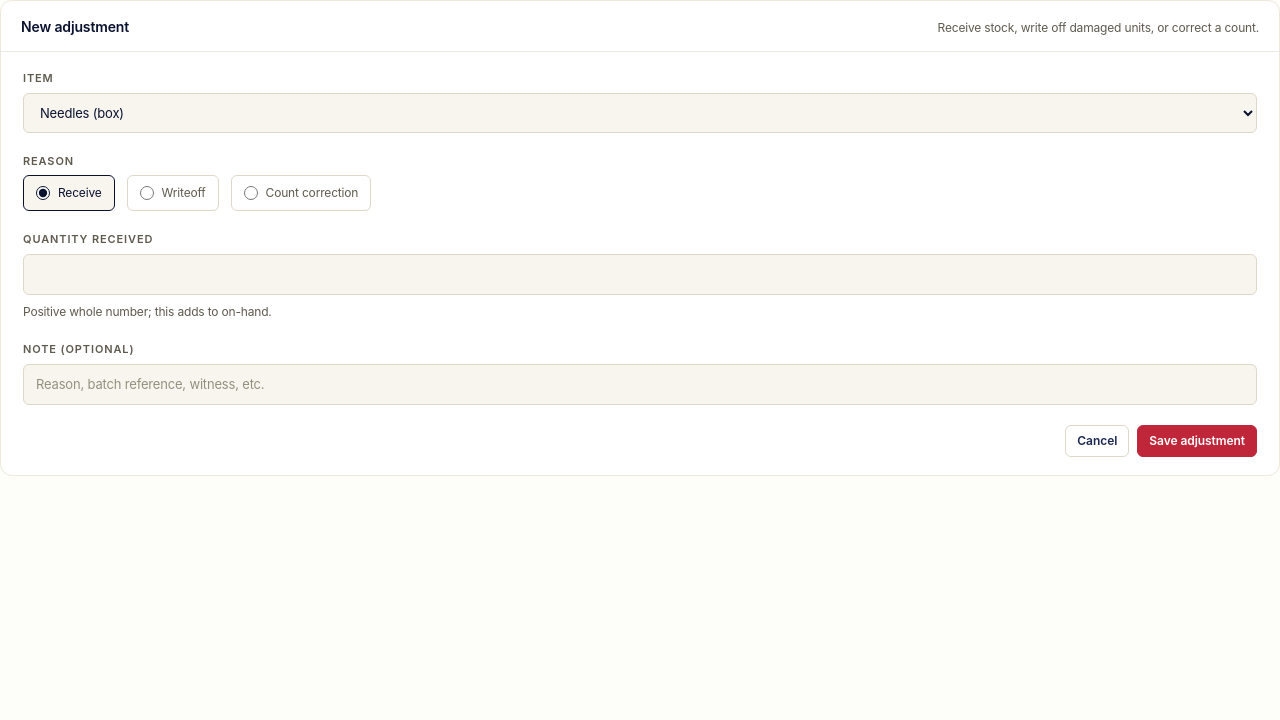
Phase-09 §8 component-render: AdjustForm (dir=ltr) › surfaces the localized forbidden copy when the IPC rejects with a forbidden-shaped error
The image size is (1280, 720).
Type "5" into the number field with id "adjust-delta" at [640, 274], box 23,254 -> 1257,295
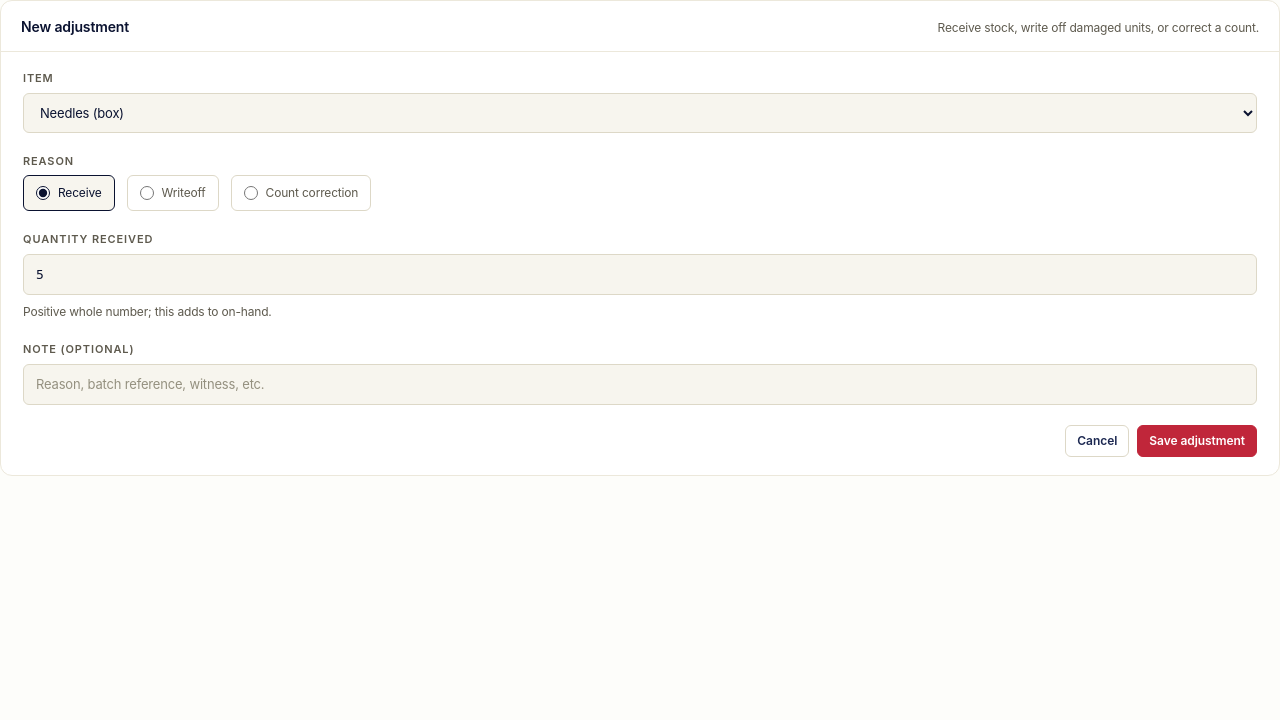
Submit the form
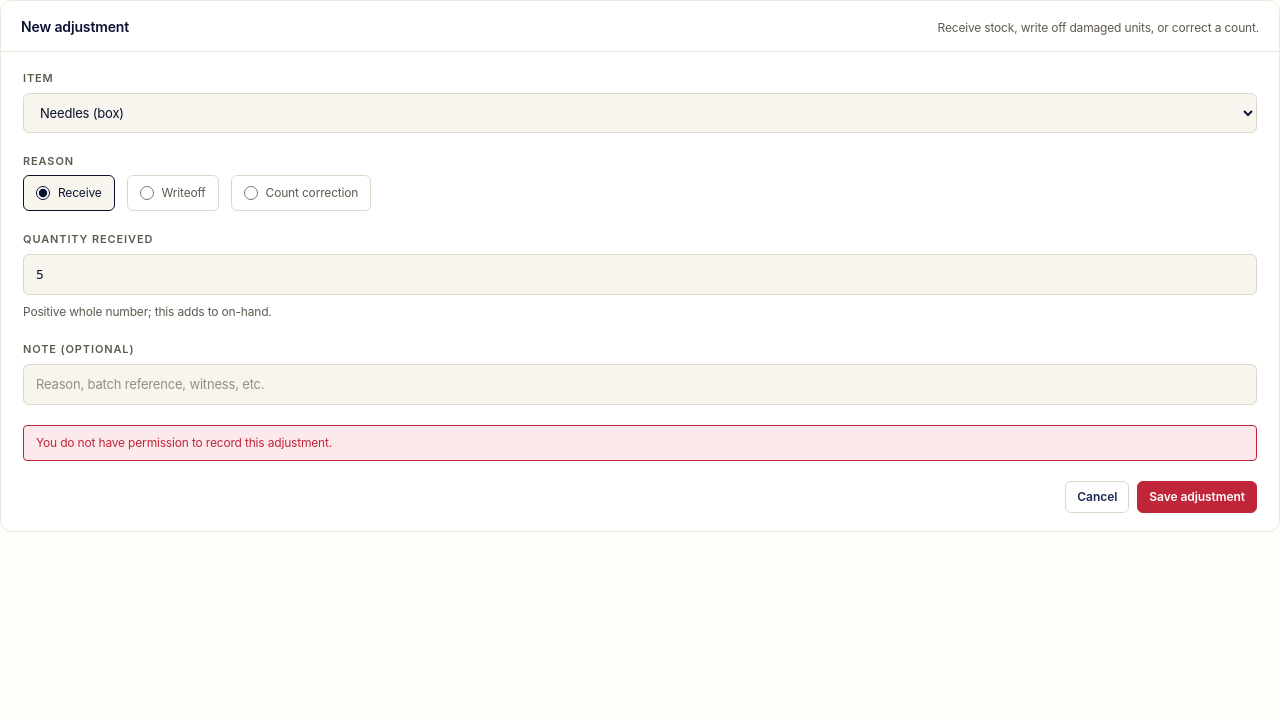
Result: the form shows "You do not have permission to record this adjustment." at 36,435 -> 332,450
